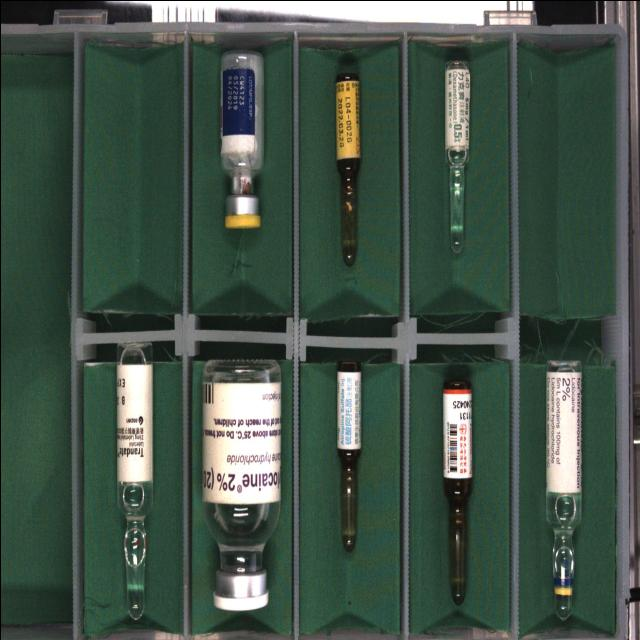Vials: (201, 359, 281, 610), (221, 51, 263, 228)
